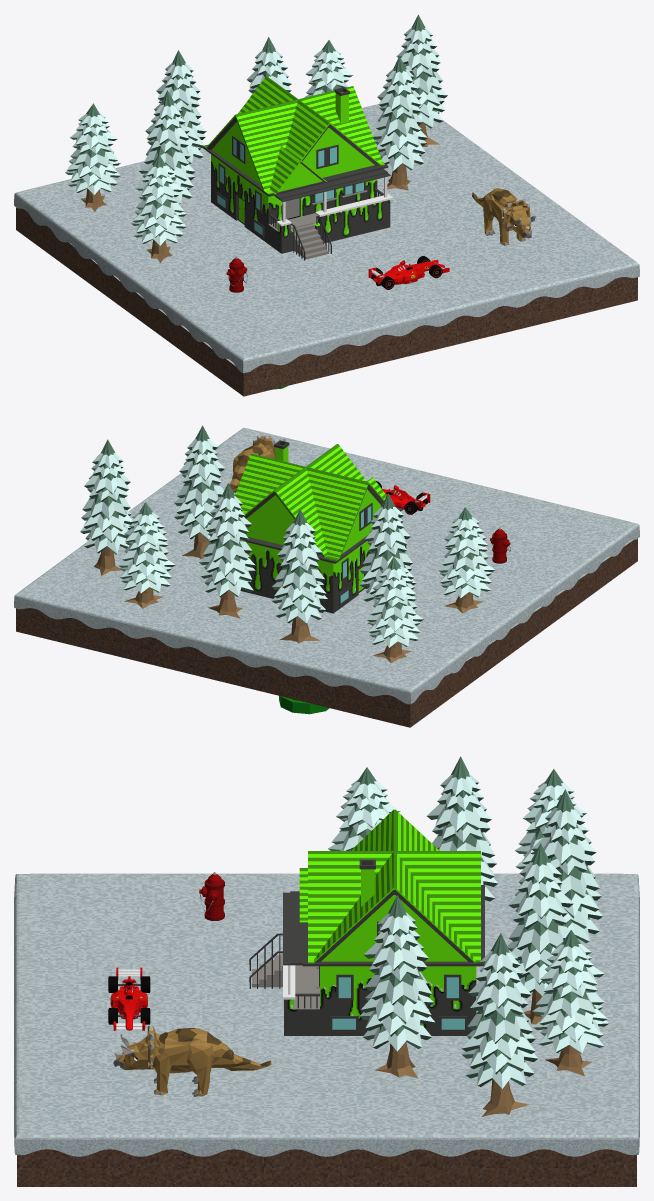
3 views of the same model, one above another, from view 1: azimuth 30°, elevation 25°; view 2: azimuth 150°, elevation 25°; view 3: azimuth 270°, elevation 25° (orthographic). The views are drawn at different scales.
Parts seen in each view (by area): view 1: Cube.003, Cube.754, ANIMAL_Triceratops, VEHICLES_FORMULA_1, OBJRANDOM_FIRE_HYDRANT; view 2: Cube.003, Cube.754, ANIMAL_Triceratops, VEHICLES_FORMULA_1, OBJRANDOM_FIRE_HYDRANT, UNDERGROUND_PIPES; view 3: Cube.003, Cube.754, ANIMAL_Triceratops, VEHICLES_FORMULA_1, OBJRANDOM_FIRE_HYDRANT.
Part boxes in pixels (bbox=[...]): Cube.003: bbox=[14, 14, 639, 396]; Cube.754: bbox=[202, 76, 393, 260]; ANIMAL_Triceratops: bbox=[472, 188, 535, 245]; VEHICLES_FORMULA_1: bbox=[368, 256, 449, 289]; OBJRANDOM_FIRE_HYDRANT: bbox=[226, 256, 247, 292]; Cube.003: bbox=[14, 425, 639, 727]; Cube.754: bbox=[235, 440, 406, 613]; ANIMAL_Triceratops: bbox=[229, 435, 285, 492]; VEHICLES_FORMULA_1: bbox=[376, 481, 430, 514]; OBJRANDOM_FIRE_HYDRANT: bbox=[490, 527, 510, 563]; UNDERGROUND_PIPES: bbox=[279, 696, 329, 714]; Cube.003: bbox=[14, 756, 639, 1186]; Cube.754: bbox=[249, 809, 484, 1035]; ANIMAL_Triceratops: bbox=[113, 1023, 271, 1096]; VEHICLES_FORMULA_1: bbox=[108, 967, 150, 1030]; OBJRANDOM_FIRE_HYDRANT: bbox=[199, 872, 224, 920].
Bounding box in the file's own units: 4040 × 2275 × 4040.
33 materials, 4 textured.
